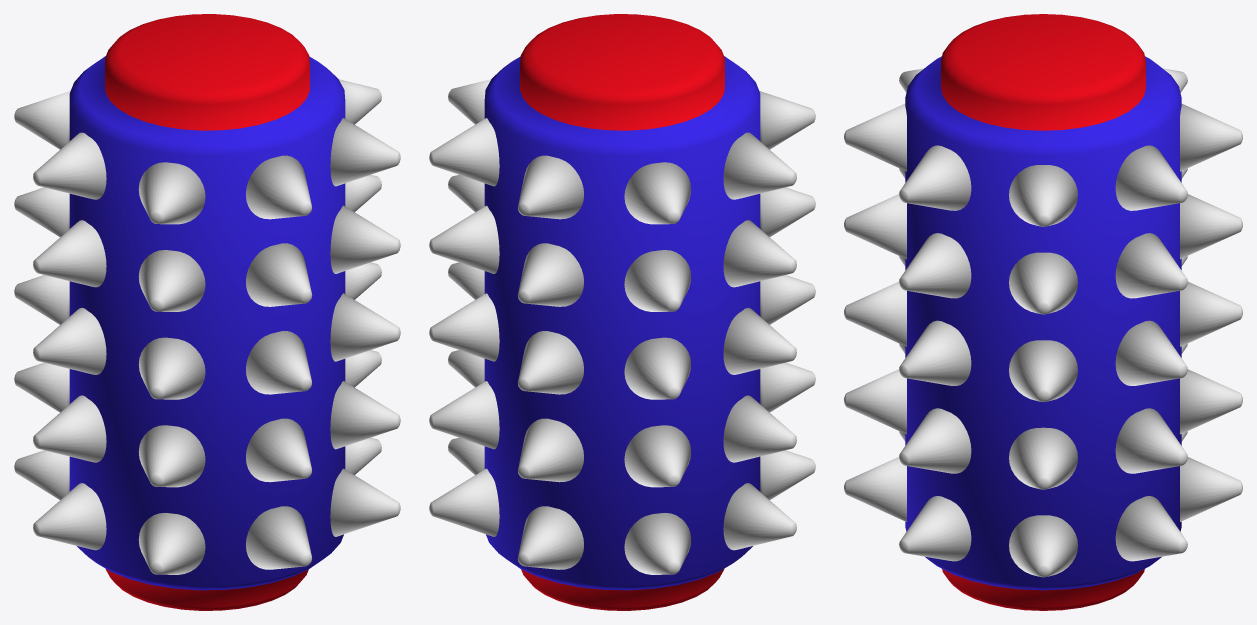
Rendered from Obstacle.fbx.
3 views of the same model, side by side, from view 1: azimuth 30°, elevation 25°; view 2: azimuth 150°, elevation 25°; view 3: azimuth 270°, elevation 25° (orthographic).
Parts seen in each view (by area): view 1: Cylinder; view 2: Cylinder; view 3: Cylinder.
Part boxes in pixels (x1,y1,x2,y2): Cylinder: (14, 14, 400, 610); Cylinder: (429, 14, 815, 610); Cylinder: (844, 14, 1242, 610).
Size of the model in its own units: 144 by 144 by 209.
